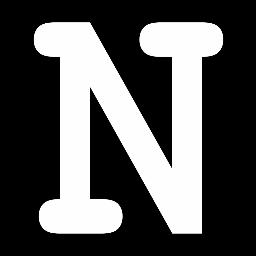n: (24, 13, 230, 241)
